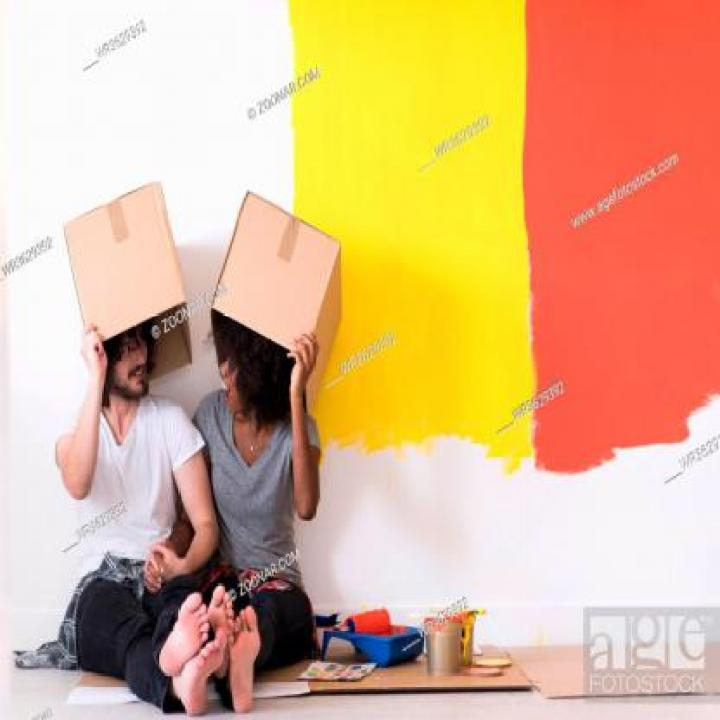box: (203, 179, 361, 435), (50, 173, 204, 398)
